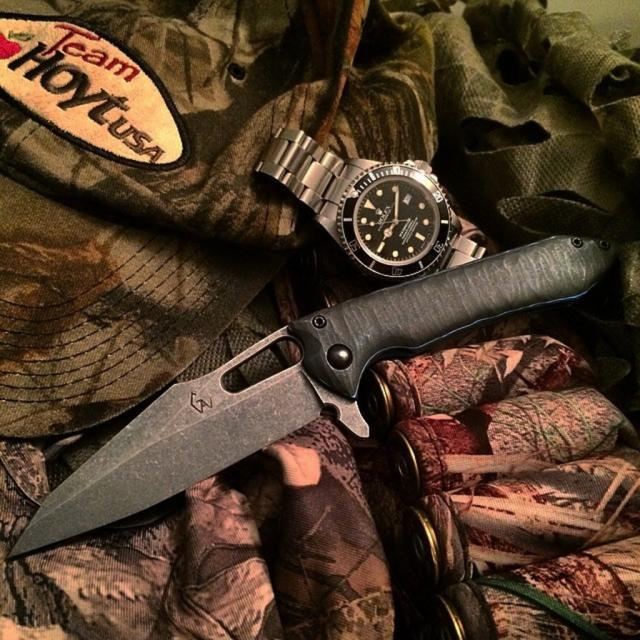Knife: (10, 236, 615, 557)
